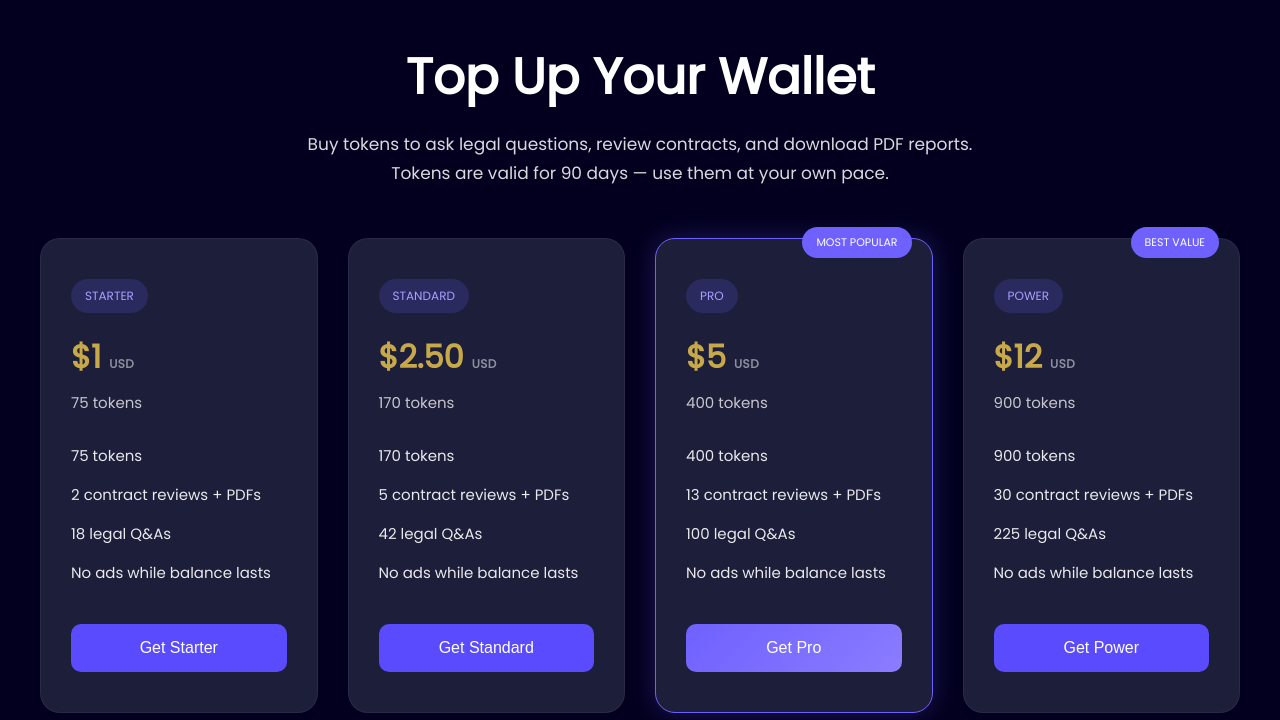
shows an inline error and re-enables the button if backend verification fails
This screenshot has width=1280, height=720.
Click the button "Get Starter". click: (179, 648)
box: [71,624,286,672]
(page scrolled)
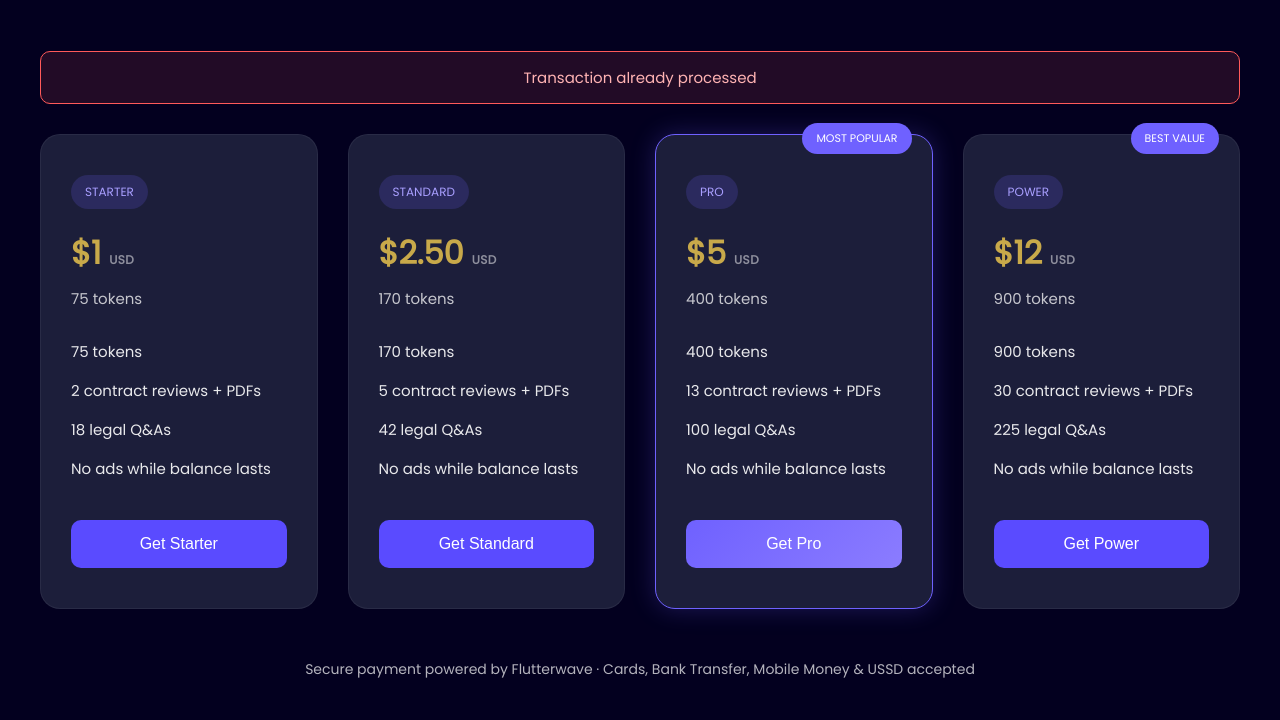
Expected: the button "Get Starter" is enabled, [71,520,286,568]
Result: the text "Transaction already processed" is shown at [40,51,1240,104]
